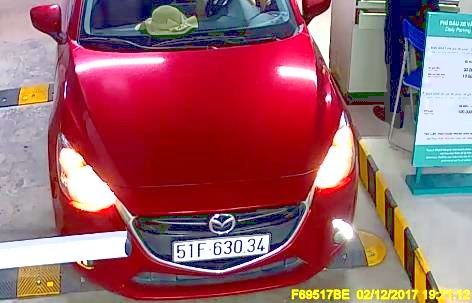plate: (170, 235, 270, 259)
